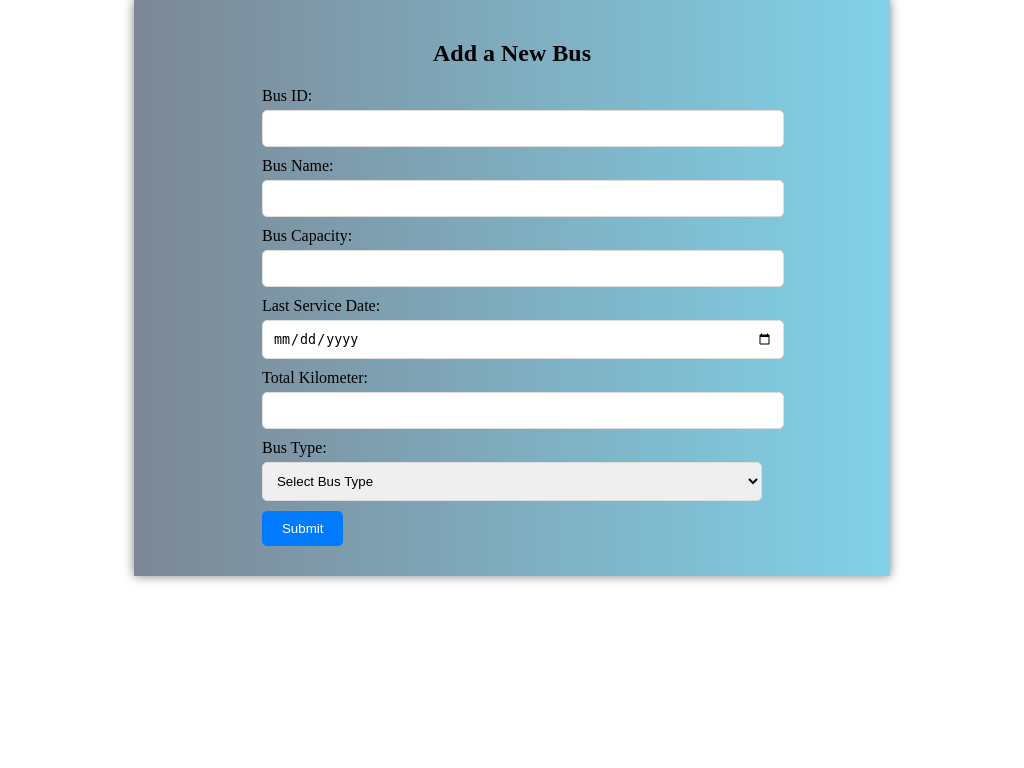
Test case: displays_validation_errors_with_empty_input
Note: Find the submit button and trigger the click event
What coordinates should you click on to do the following:
click the button "Submit"
I would click on:
 (303, 529)
Its box is [262,511,344,546].
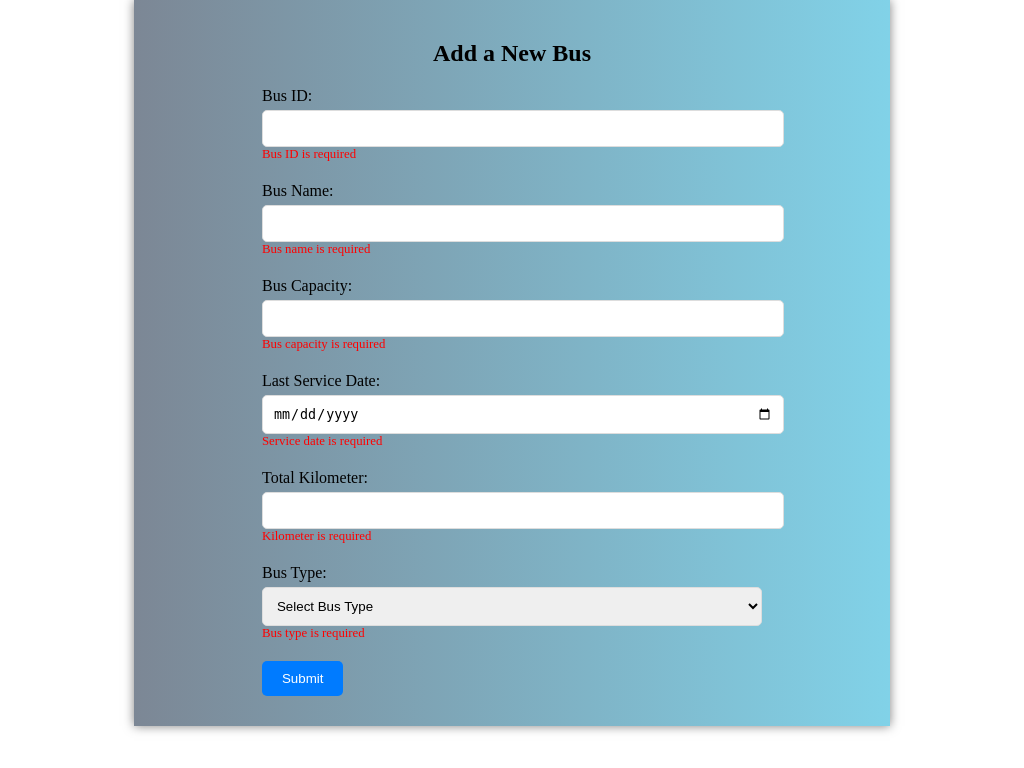
Now the text "Bus ID is required" is shown, box [262,147,356,161]
Now the text "Bus name is required" is shown, box [262,242,370,256]
Now the text "Bus capacity is required" is shown, box [262,337,385,351]
